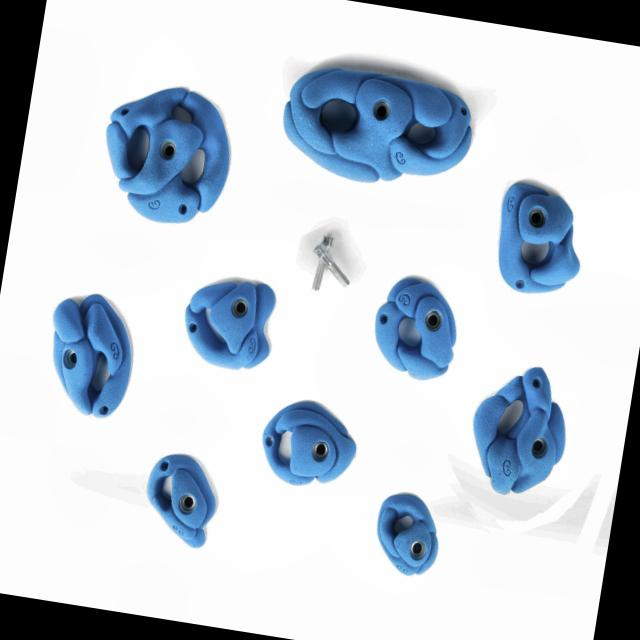Hold: (268, 51, 477, 196), (93, 72, 238, 228), (460, 355, 582, 508), (36, 286, 142, 430), (489, 176, 594, 304), (362, 268, 471, 384), (178, 267, 289, 378), (250, 394, 368, 492), (136, 450, 225, 552), (364, 484, 446, 578)
